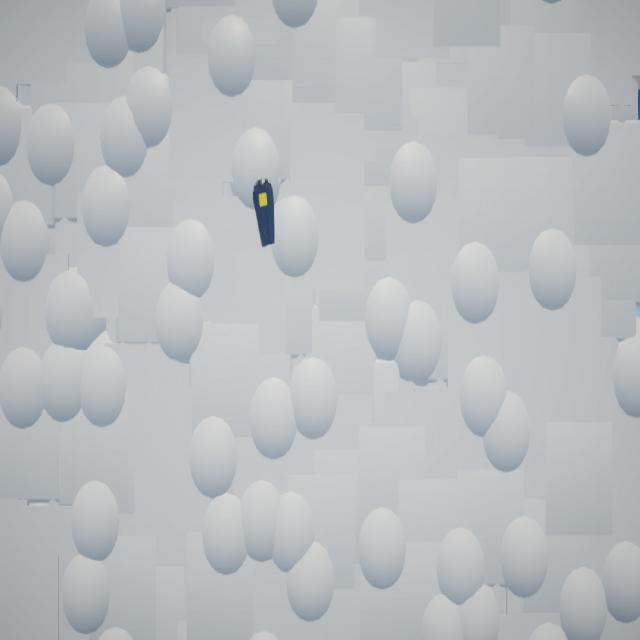handle_folk: (253, 179, 276, 248)
